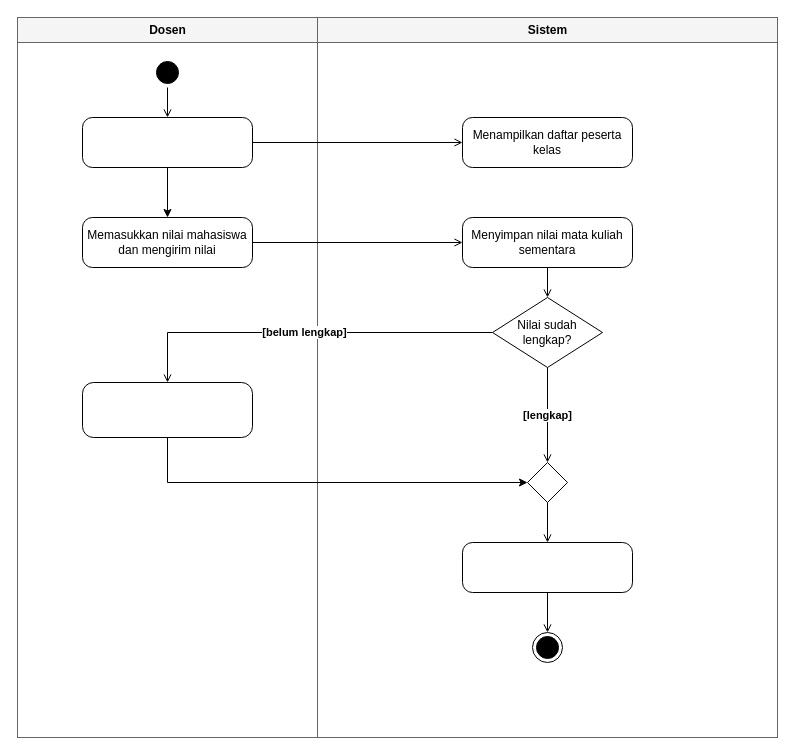
This 795x755 diagram has some shape labels left out. The shapes that lost their labels are listed below. From the top down, each one's centre as x and y in pixels, then its label:
At (167,142): "Memilih kelas mata kuliah yang diampu".
At (167,410): "Melengkapi nilai mata kuliah yang belum lengkap".
At (547,567): "Mengubah status nilai menjadi Siap Disahkan".
